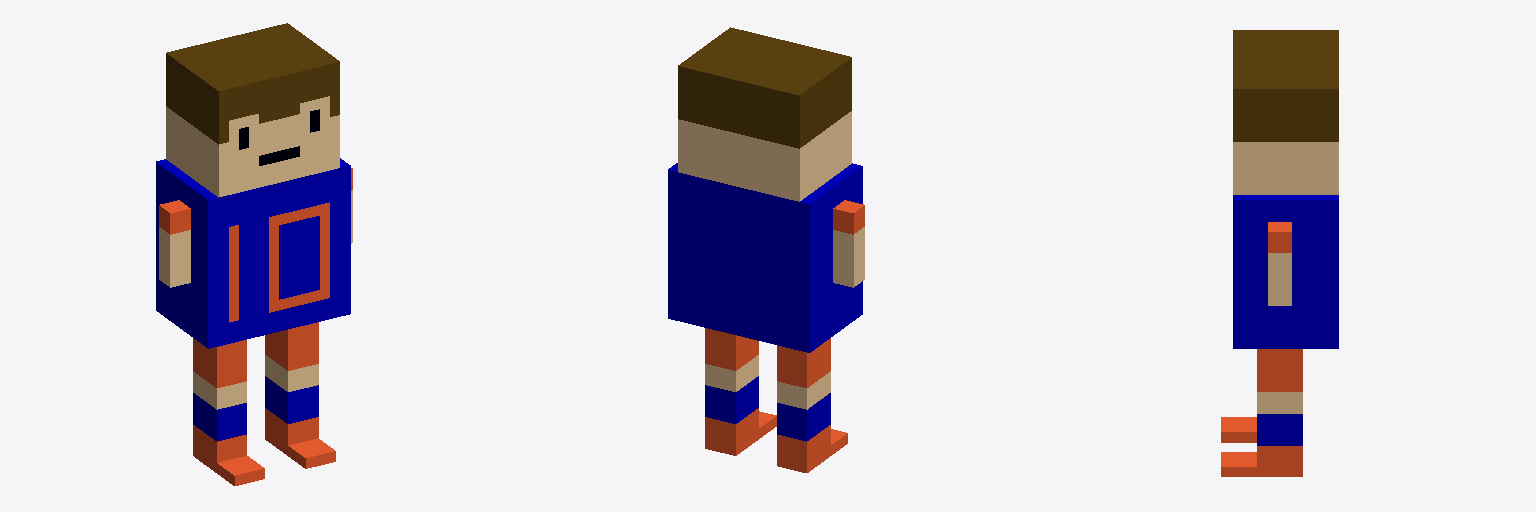
3 views of the same model, side by side, from view 1: azimuth 30°, elevation 25°; view 2: azimuth 150°, elevation 25°; view 3: azimuth 270°, elevation 25° (orthographic).
Visible parts, largest first — view 1: Player4; view 2: Player4; view 3: Player4.
Boxes of the visible parts, x1=… form: Player4: x1=156, y1=23, x2=352, y2=485; Player4: x1=668, y1=27, x2=864, y2=472; Player4: x1=1221, y1=30, x2=1338, y2=476.
Size of the model in its own units: 18 by 37 by 10.
1 materials, 1 textured.